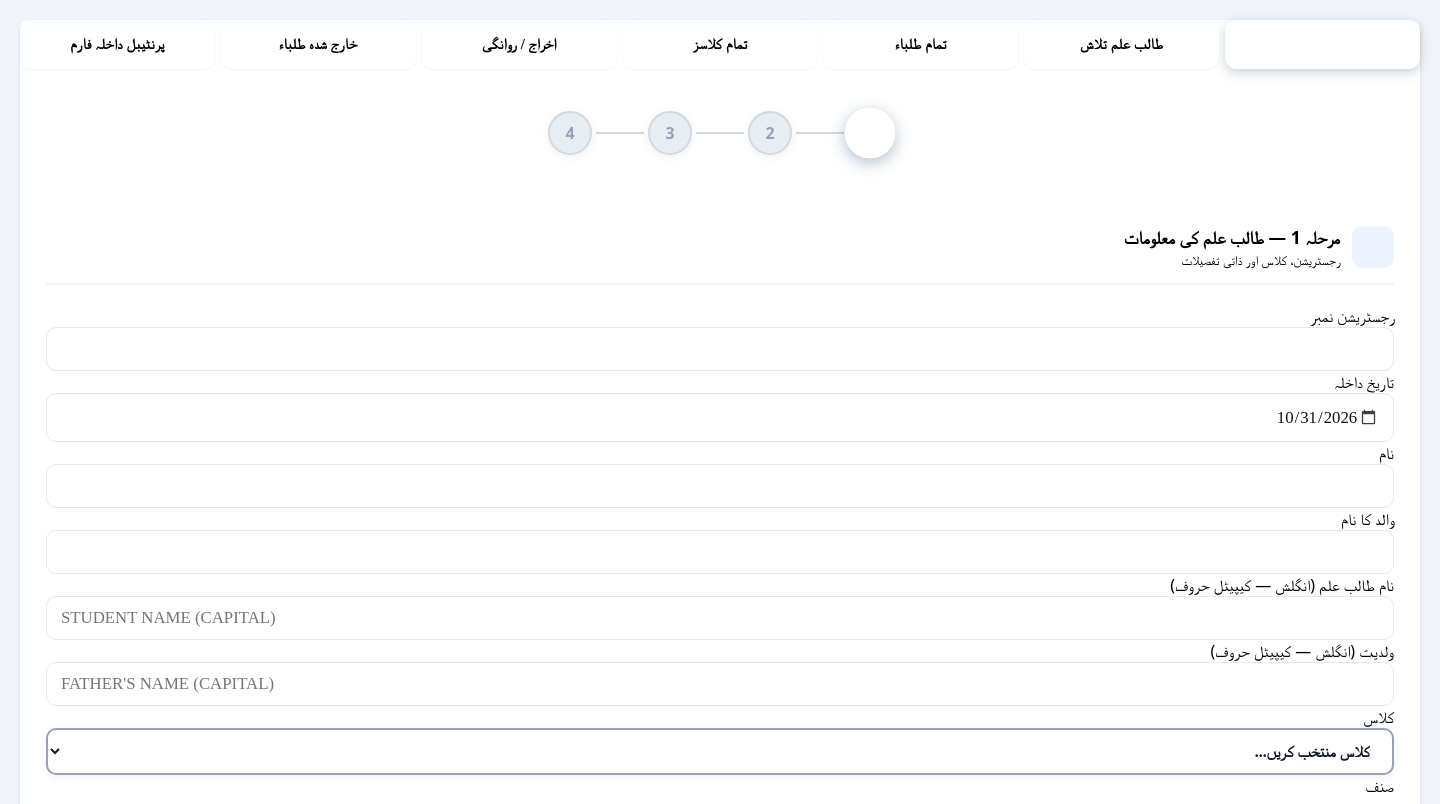
Test: Classes Management in Admissions ("All Classes" tab) › allows editing class name and teacher name
Click the button "تمام کلاسز" at (720, 44), box top-left (623, 20), bottom-right (818, 69)
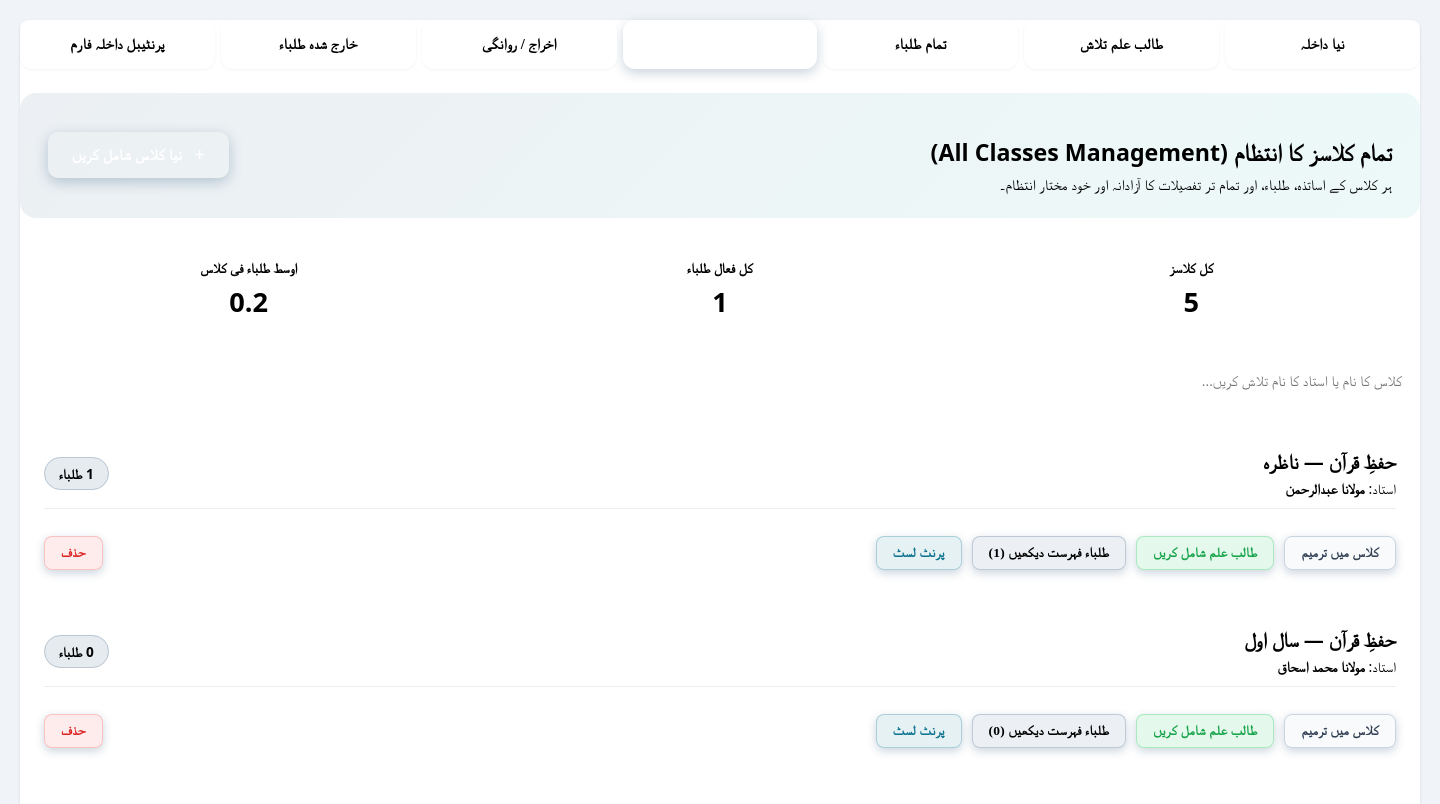
expect the heading "حفظِ قرآن — سال اول" is shown: met, box top-left (1244, 626), bottom-right (1396, 653)
# Click Edit Class on the second class card
Click the button "کلاس میں ترمیم" below "مولانا محمد اسحاق" at (1340, 731), box top-left (1284, 714), bottom-right (1396, 748)
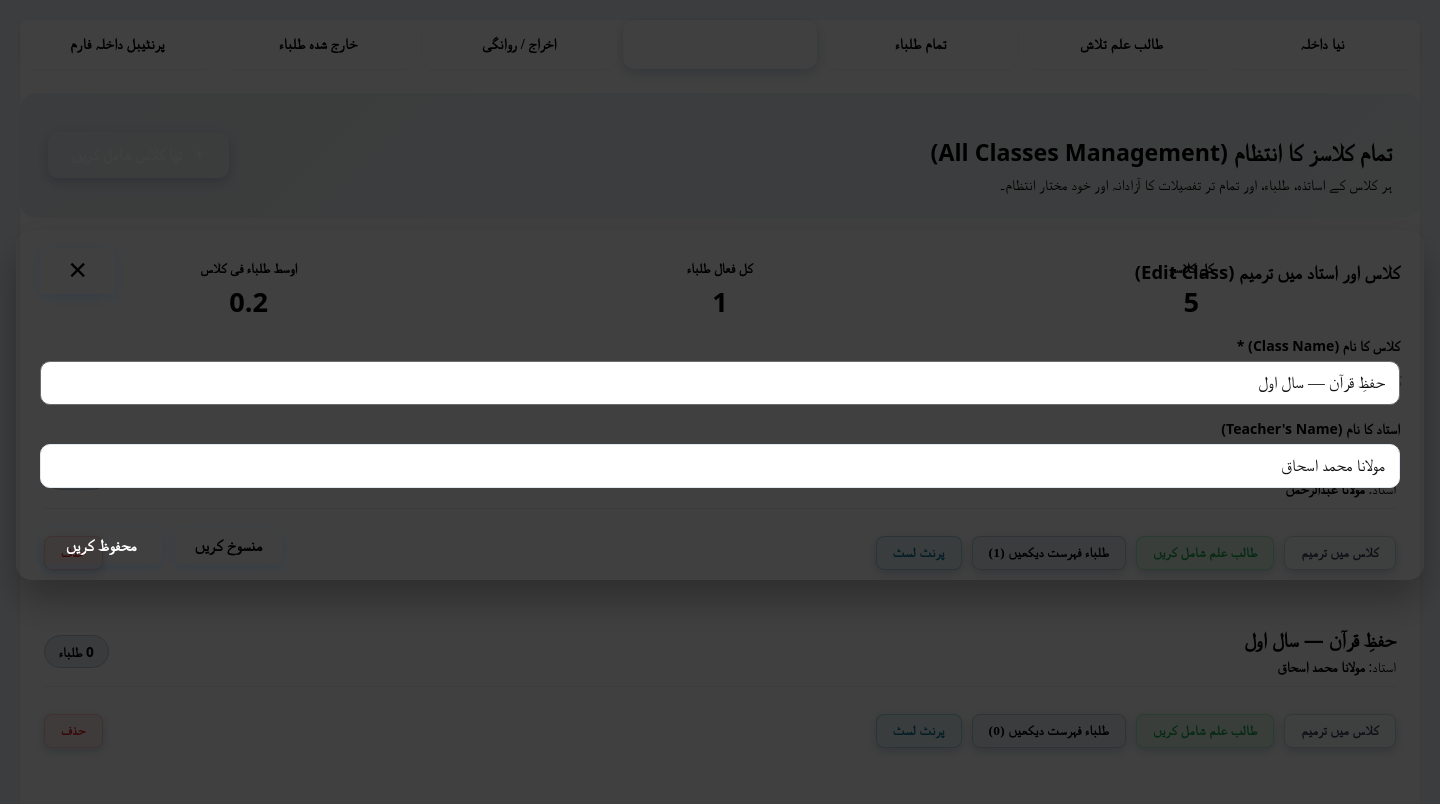
expect the heading "کلاس اور استاد میں ترمیم (Edit Class)" is shown: met, box top-left (1135, 258), bottom-right (1400, 284)
Replace the text in the field labelled "کلاس کا نام (Class Name) *" with "حفظِ قرآن — سال اول (الف)" at (720, 383), box top-left (40, 361), bottom-right (1400, 405)
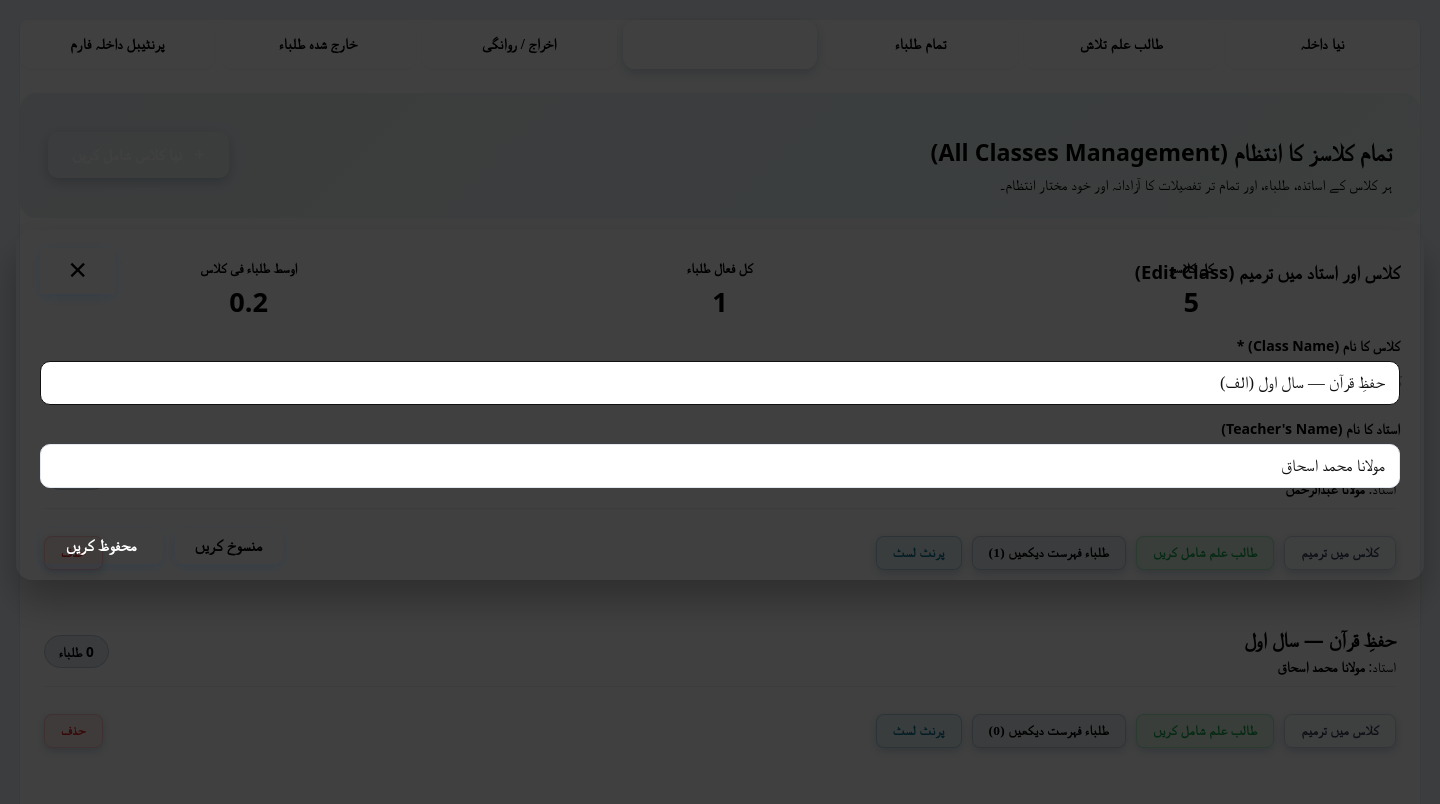
Replace the text in the field labelled "استاد کا نام (Teacher's Name)" with "مولانا طارق" at (720, 466), box top-left (40, 444), bottom-right (1400, 488)
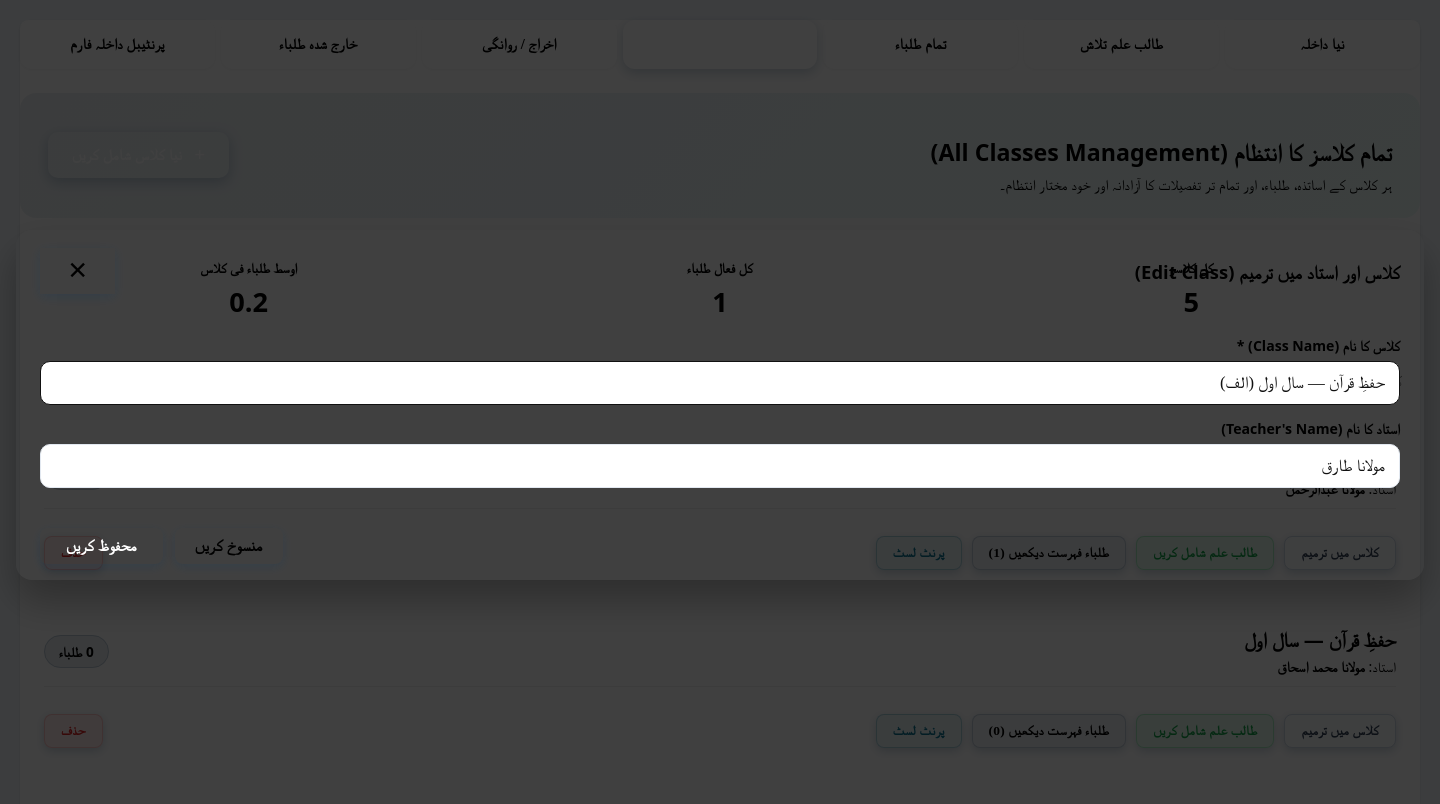
Click the button "محفوظ کریں" at (101, 546), box top-left (40, 528), bottom-right (163, 564)
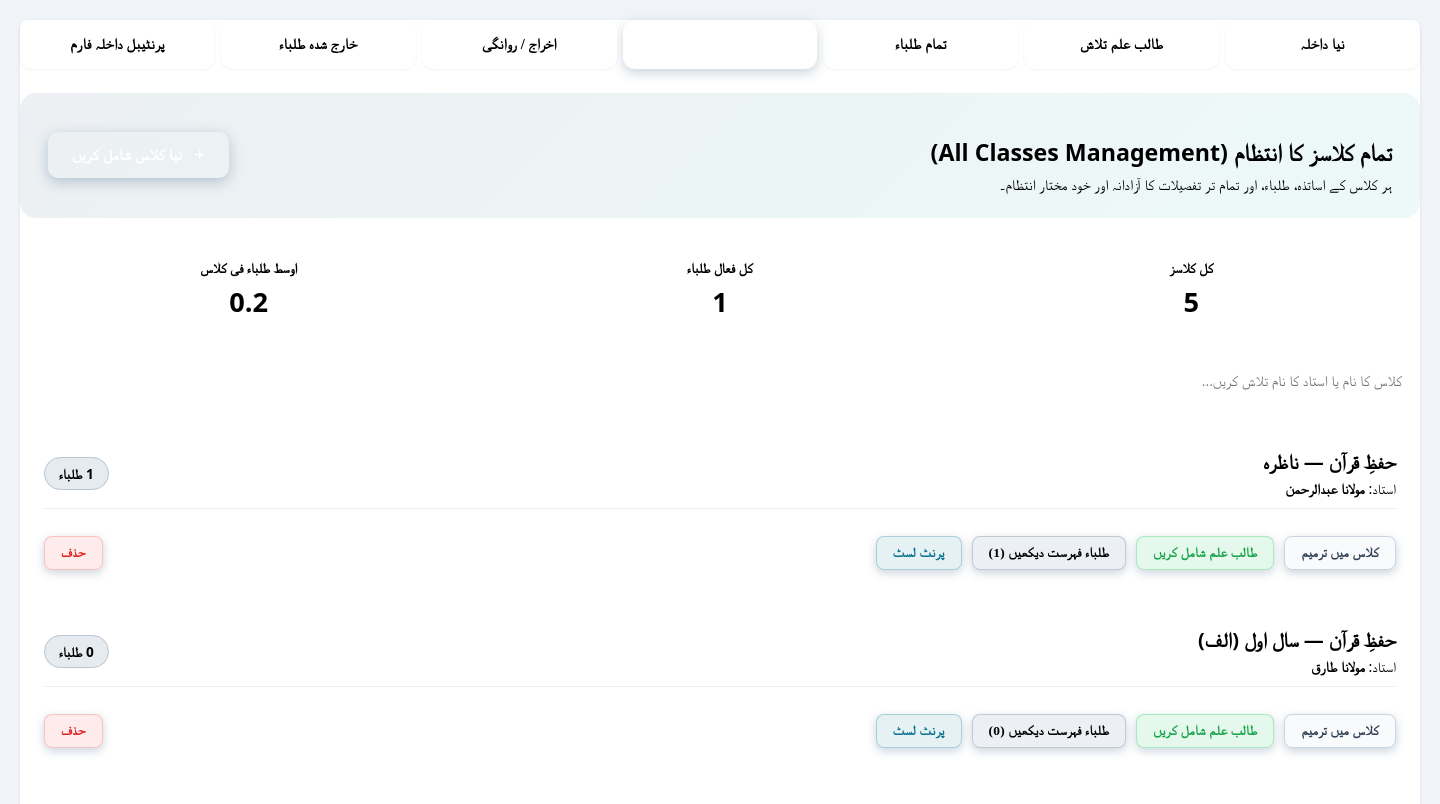
expect the heading "حفظِ قرآن — سال اول (الف)" is shown: met, box top-left (1198, 626), bottom-right (1396, 653)
expect the text "مولانا طارق" is shown: met, box top-left (1311, 657), bottom-right (1365, 676)
